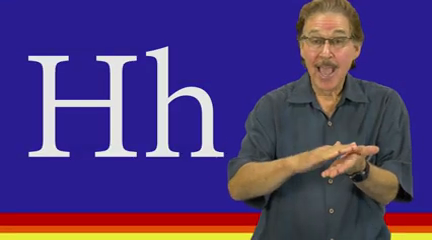H: (290, 137, 379, 190)
